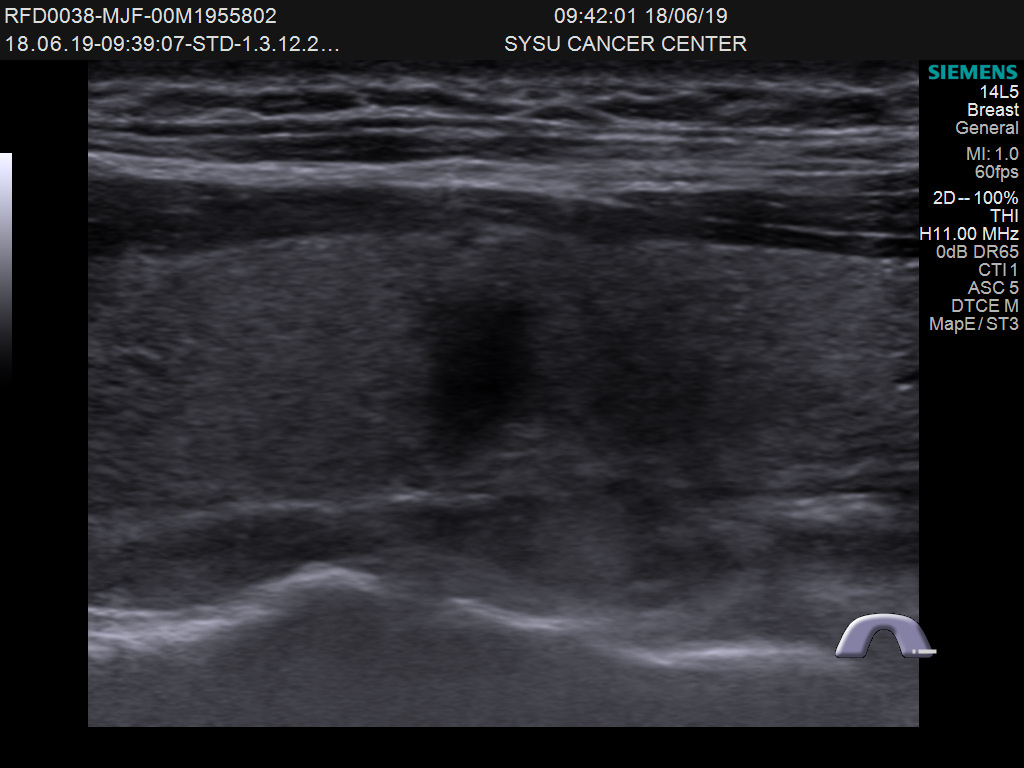Thyroid_tumor: (410, 254, 579, 465)
